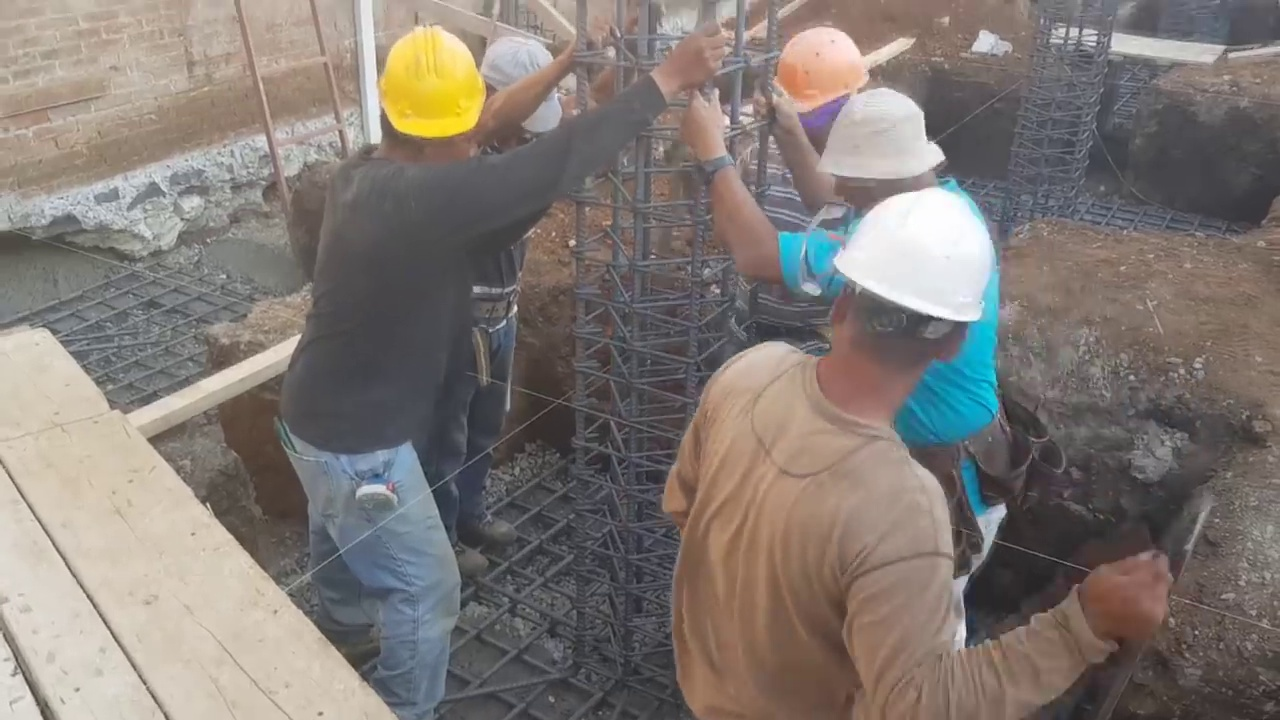helmet: (833, 190, 996, 351), (376, 34, 484, 142), (775, 25, 872, 113)
helmet-off: (818, 91, 952, 227), (476, 28, 562, 140)
helmet-on: (801, 185, 1000, 449), (370, 22, 491, 173), (773, 20, 870, 165)
person: (262, 5, 722, 718), (673, 186, 1174, 714), (681, 88, 1048, 655), (436, 18, 571, 579), (724, 21, 873, 357)
